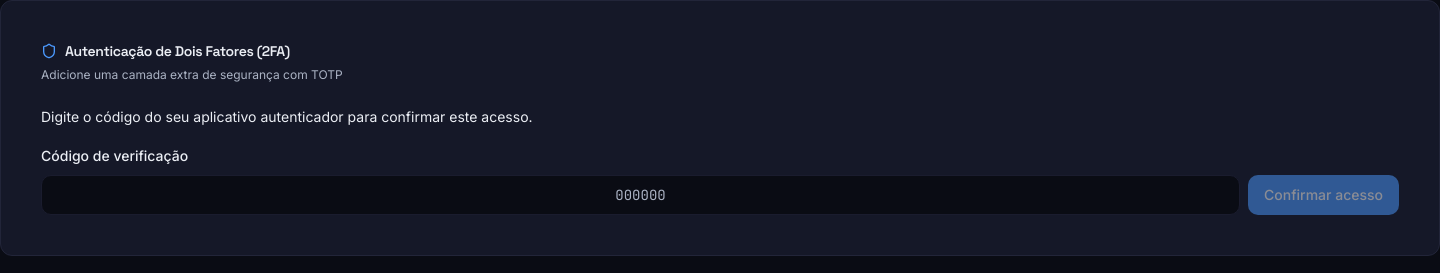
Scenario: Configuração e confirmação MFA › solicita código para um fator já cadastrado em uma sessão AAL1
Expected: the button "Desativar" is not shown
Type "123456" into the field labelled "Código de verificação" at (640, 195), box 41,175 -> 1240,215
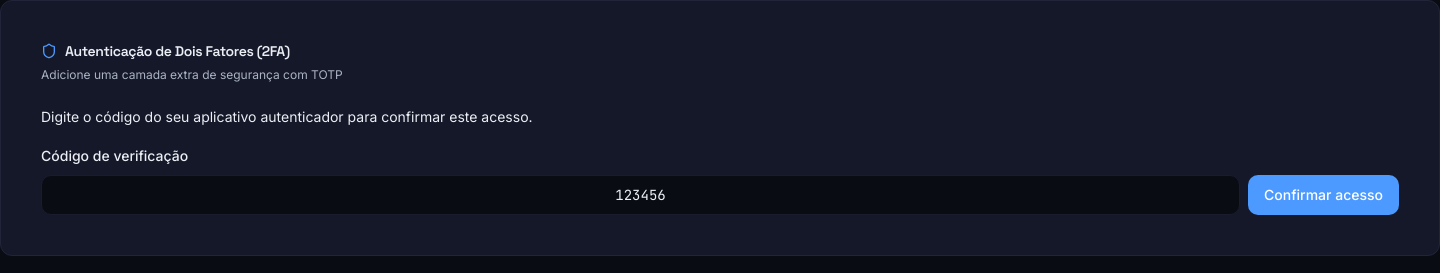
Click the button "Confirmar acesso" at (1324, 195), box 1248,175 -> 1399,215
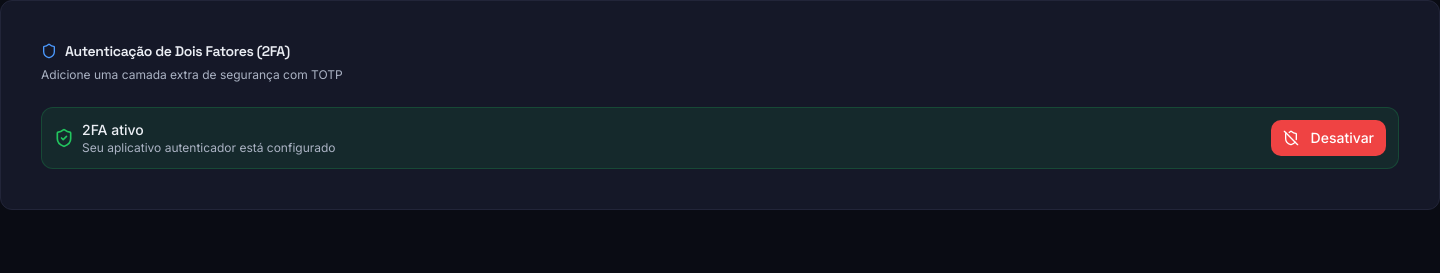
Result: the text "2FA ativo" is shown at 82,121 -> 144,138
